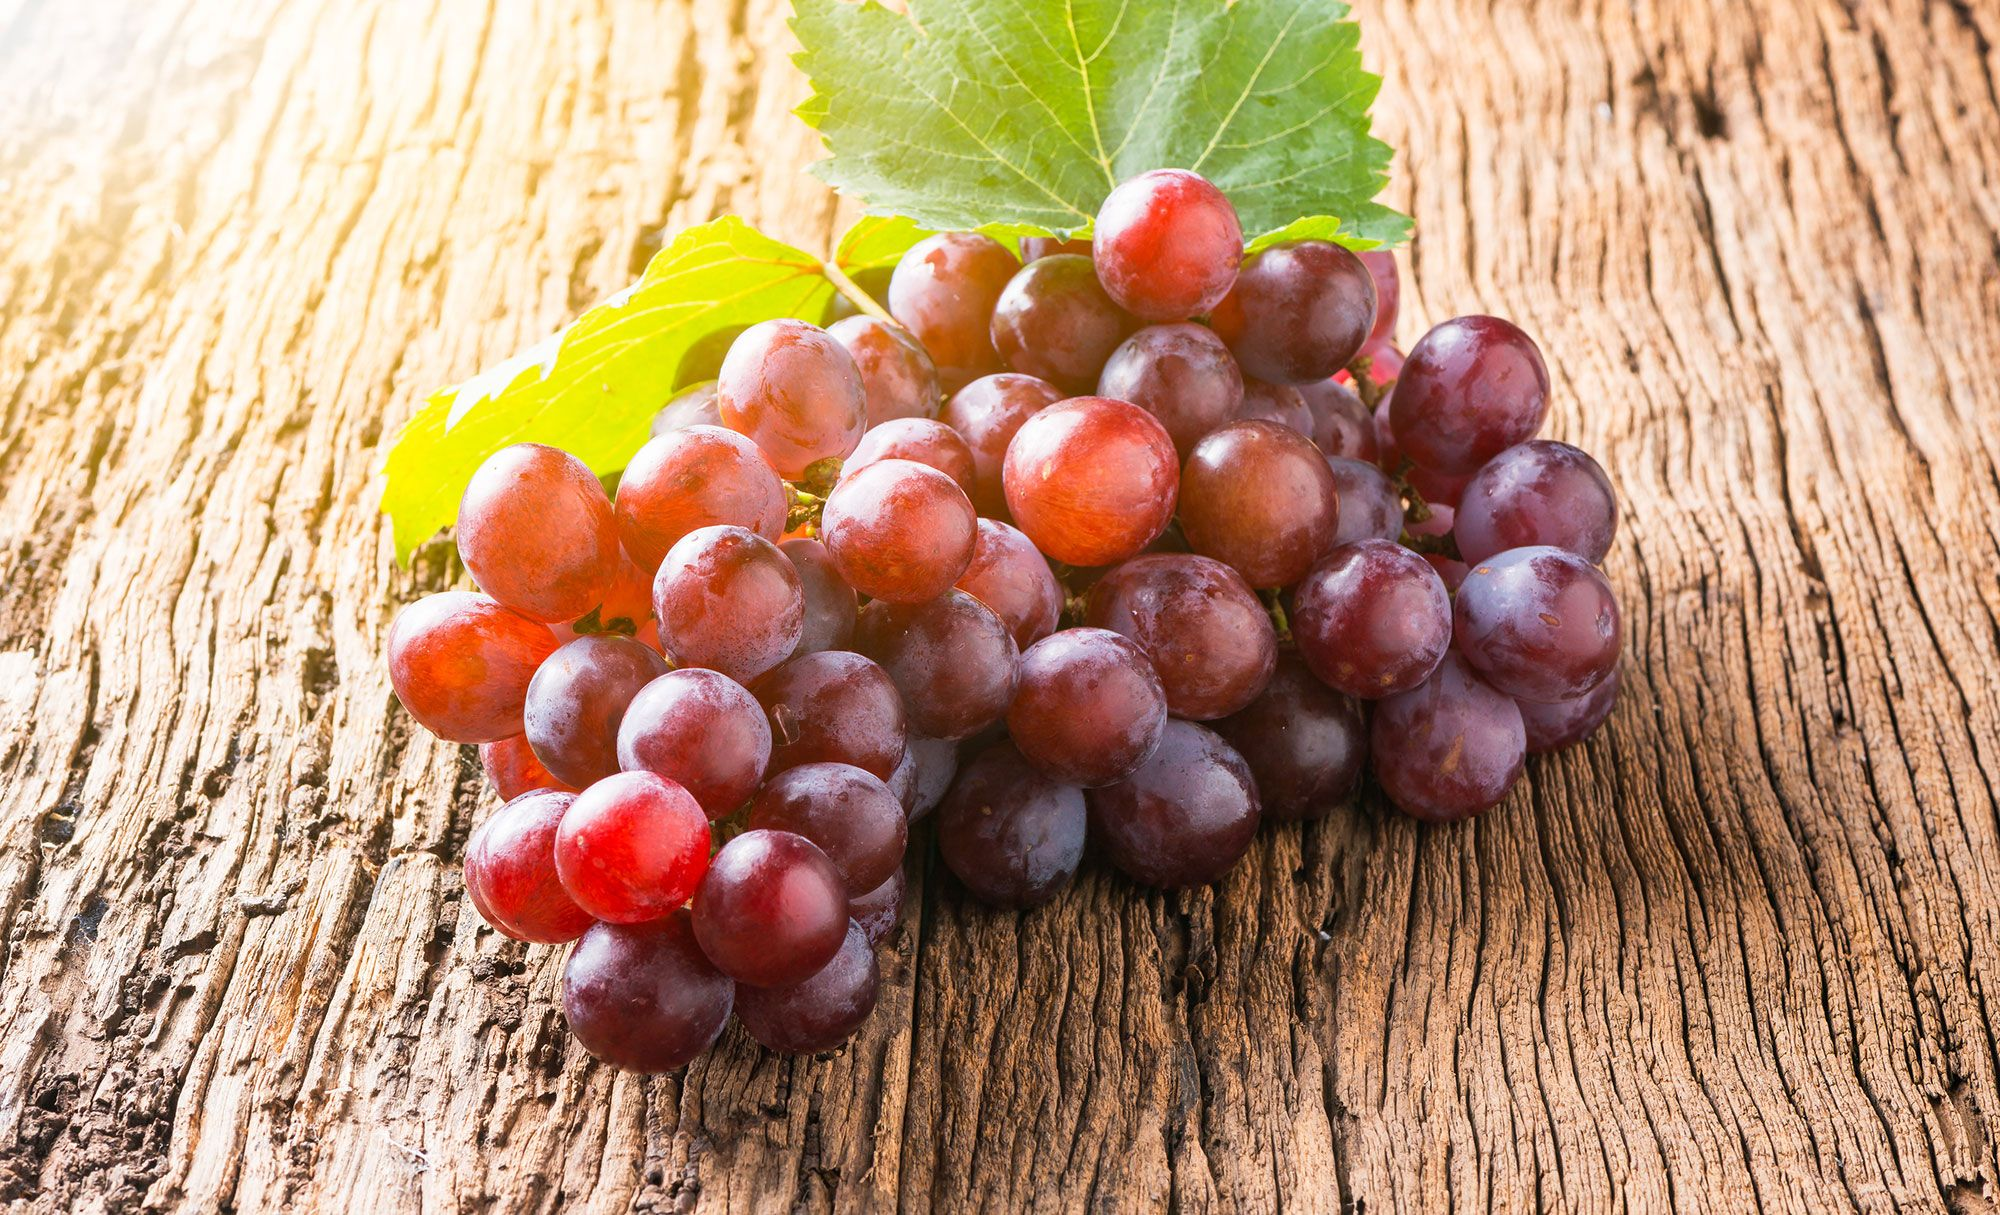Red Grapes: (406, 186, 1630, 1041)
